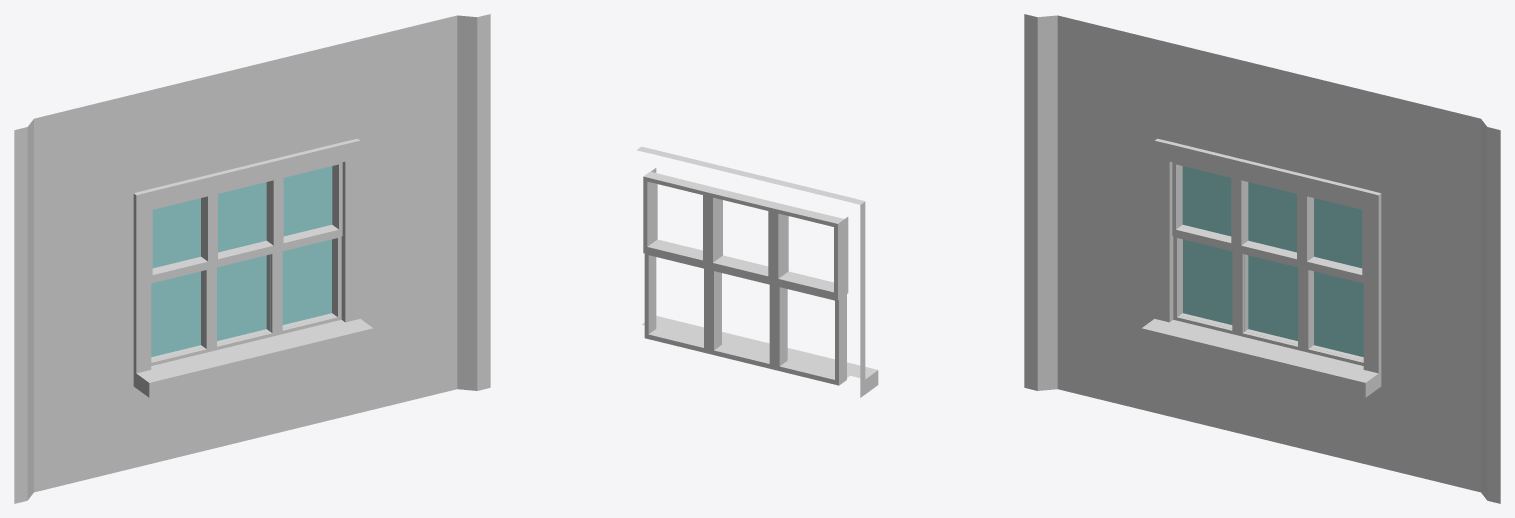
The model's file is Brick_Inset_Window.gltf.
3 renders of one model, left to right at view 1: azimuth 30°, elevation 25°; view 2: azimuth 150°, elevation 25°; view 3: azimuth 330°, elevation 25°, orthographic.
Visible parts, largest first — view 1: Brick_Inset_Window; view 2: Brick_Inset_Window; view 3: Brick_Inset_Window.
Part boxes in pixels (x1=…): Brick_Inset_Window: x1=14, y1=14, x2=490, y2=503; Brick_Inset_Window: x1=637, y1=146, x2=878, y2=397; Brick_Inset_Window: x1=1024, y1=14, x2=1500, y2=503.
Bounding box in the file's own units: 4 × 3 × 0.3743.
